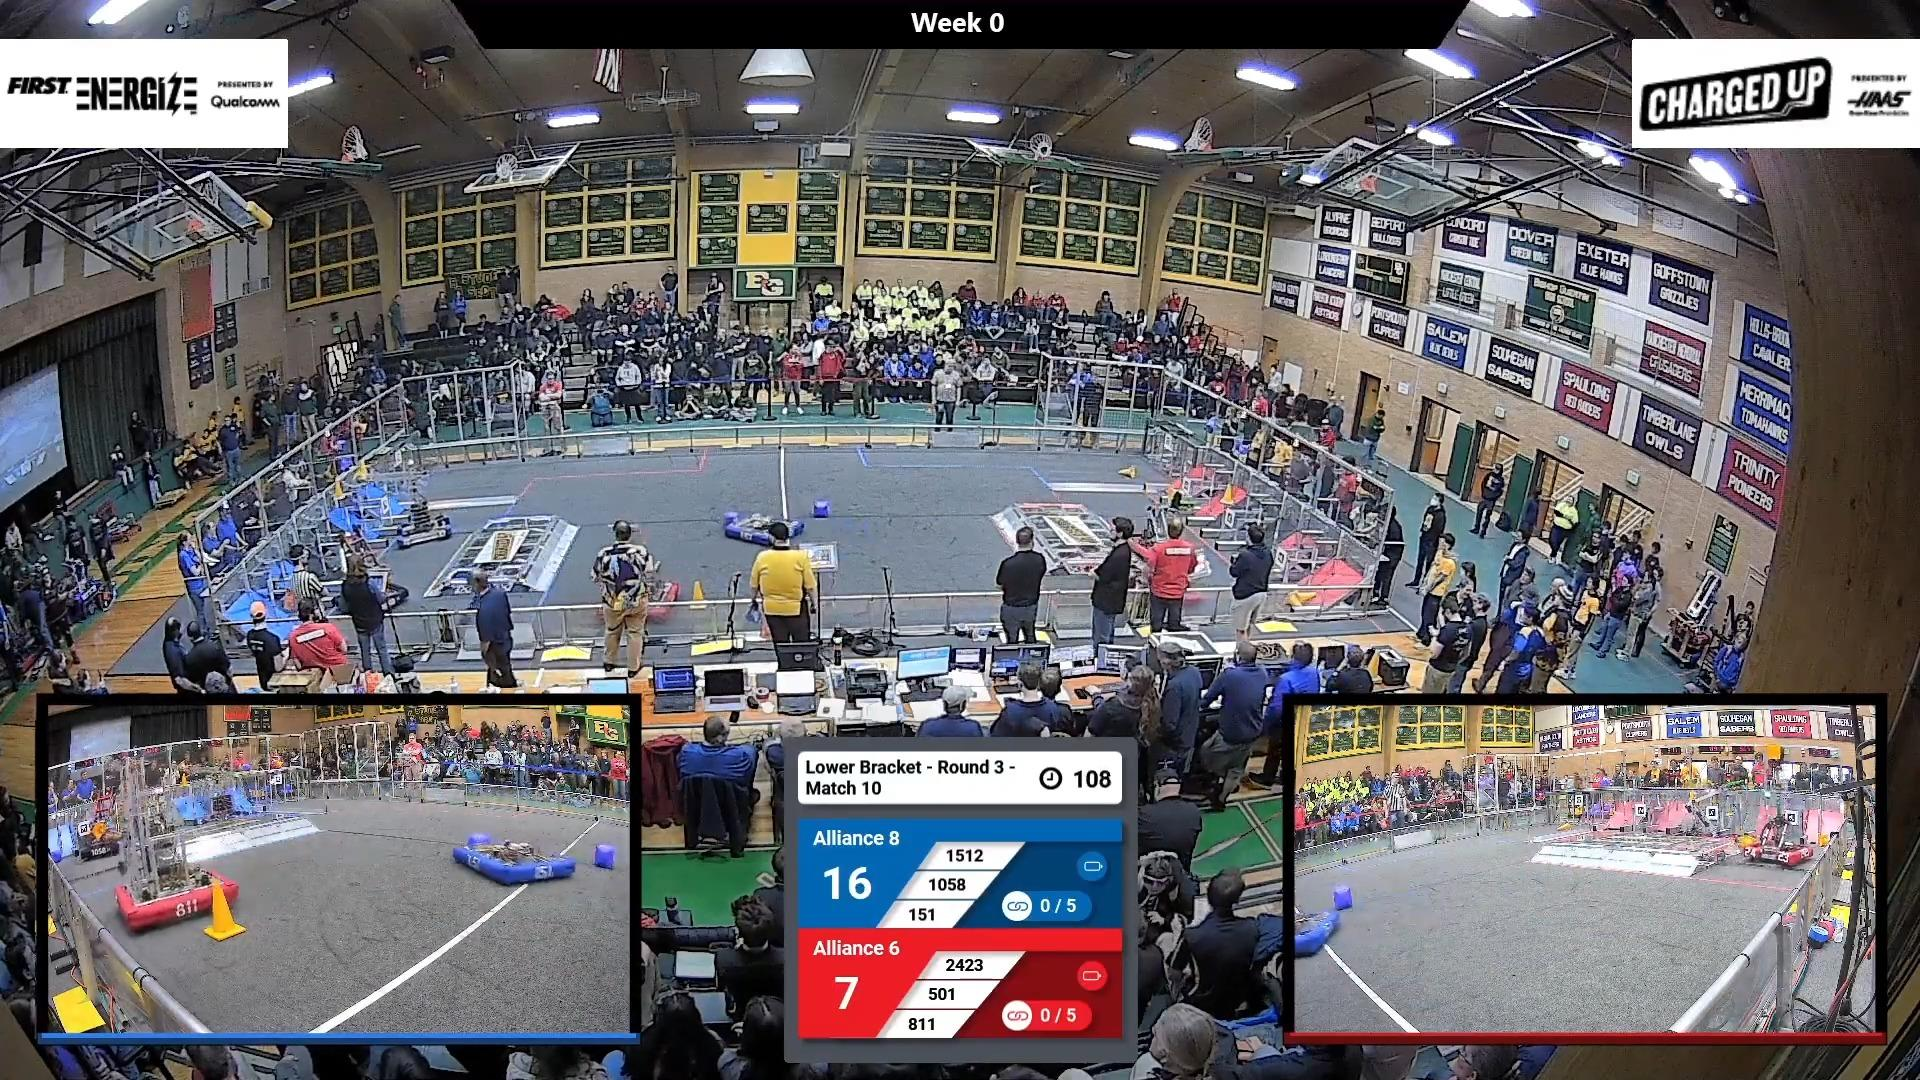robot: (1122, 481, 1205, 568), (332, 547, 410, 626), (719, 492, 812, 555), (1129, 549, 1212, 613), (605, 560, 684, 628), (389, 480, 455, 553)
